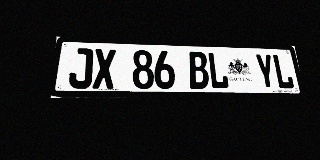6: (154, 50, 175, 89)
8: (133, 50, 154, 89)
B: (187, 51, 210, 89)
J: (68, 48, 93, 89)
L: (207, 52, 229, 89), (272, 54, 295, 89)
X: (92, 49, 116, 89)
Y: (254, 54, 277, 89)
